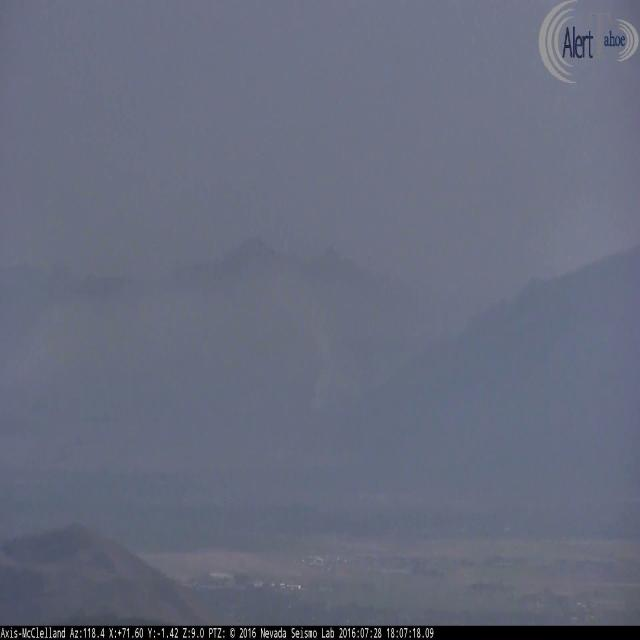smoke: (238, 254, 355, 412)
